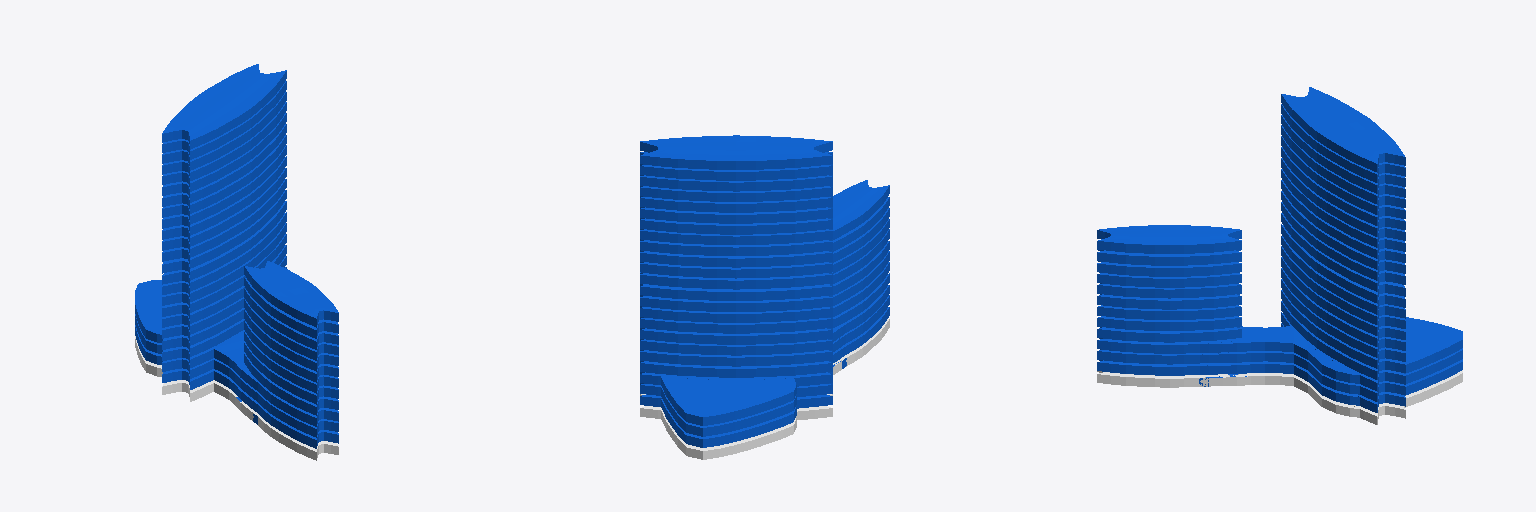
The picture shows the model from 3 angles: view 1: azimuth 30°, elevation 25°; view 2: azimuth 150°, elevation 25°; view 3: azimuth 270°, elevation 25°; orthographic projection.
Parts seen in each view (by area): view 1: B.19, Q.3, A.8, Q.1, Q.2, B.7, B.6, B.10, B.8, B.14, B.13, B.11 (+23 smaller); view 2: Q.3, B.19, Q.1, Q.2, B.7, B, B.6, B.3, B.10, B.8, B.13, B.11 (+23 smaller); view 3: Q.3, B.19, Q.1, Q.2, A.8, 立方体, A.7, A, A.3, A.6, A.1, A.5 (+23 smaller).
Boxes of the visible parts, x1=… form: B.19: x1=162, y1=64, x2=286, y2=149; Q.3: x1=135, y1=280, x2=338, y2=426; A.8: x1=244, y1=261, x2=338, y2=327; Q.1: x1=135, y1=325, x2=338, y2=448; Q.2: x1=135, y1=314, x2=338, y2=437; B.7: x1=162, y1=201, x2=286, y2=280; B.6: x1=162, y1=212, x2=286, y2=291; B.10: x1=162, y1=168, x2=286, y2=246; B.8: x1=162, y1=190, x2=286, y2=268; B.14: x1=162, y1=124, x2=286, y2=202; B.13: x1=162, y1=135, x2=286, y2=213; B.11: x1=162, y1=156, x2=286, y2=235; Q.3: x1=640, y1=285, x2=889, y2=425; B.19: x1=640, y1=135, x2=832, y2=169; Q.1: x1=640, y1=307, x2=889, y2=447; Q.2: x1=640, y1=295, x2=889, y2=436; B.7: x1=640, y1=272, x2=832, y2=300; B: x1=640, y1=350, x2=832, y2=377; B.6: x1=640, y1=284, x2=832, y2=311; B.3: x1=640, y1=317, x2=832, y2=344; B.10: x1=640, y1=239, x2=832, y2=267; B.8: x1=640, y1=262, x2=832, y2=289; B.13: x1=640, y1=207, x2=832, y2=234; B.11: x1=640, y1=229, x2=832, y2=255; Q.3: x1=1097, y1=312, x2=1462, y2=391; B.19: x1=1281, y1=87, x2=1405, y2=172; Q.1: x1=1097, y1=359, x2=1462, y2=412; Q.2: x1=1097, y1=323, x2=1462, y2=401; A.8: x1=1097, y1=225, x2=1241, y2=253; 立方体: x1=1200, y1=370, x2=1462, y2=417; A.7: x1=1097, y1=250, x2=1241, y2=265; A: x1=1097, y1=327, x2=1241, y2=342; A.3: x1=1097, y1=294, x2=1241, y2=309; A.6: x1=1097, y1=261, x2=1241, y2=276; A.1: x1=1097, y1=316, x2=1241, y2=330; A.5: x1=1097, y1=273, x2=1241, y2=287.
Bounding box in the file's own units: 380 × 597 × 756.